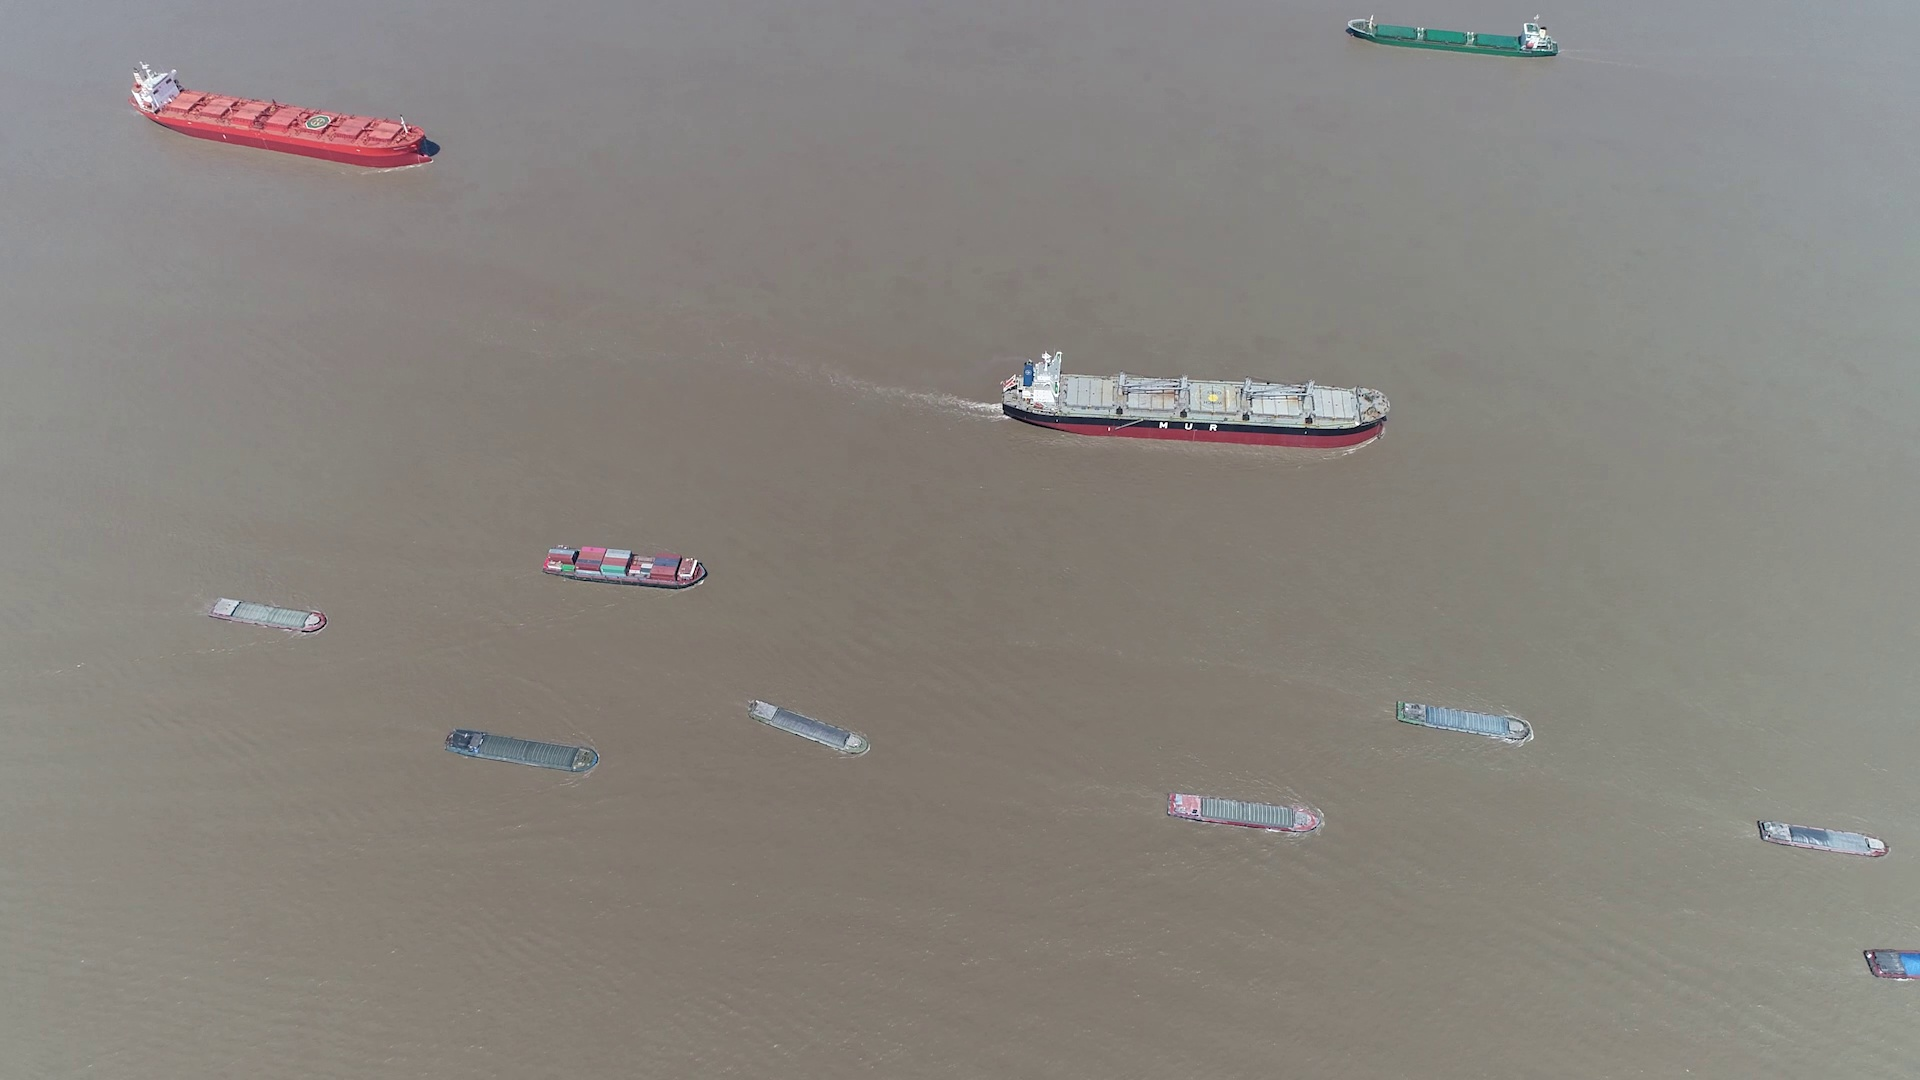ship: (1000, 353, 1387, 448), (135, 61, 438, 166), (1348, 17, 1557, 59), (748, 699, 873, 761), (543, 542, 709, 587), (444, 727, 600, 773), (1170, 793, 1323, 835), (1394, 702, 1534, 742), (1755, 820, 1888, 858), (206, 596, 326, 633), (1865, 948, 1919, 982)
